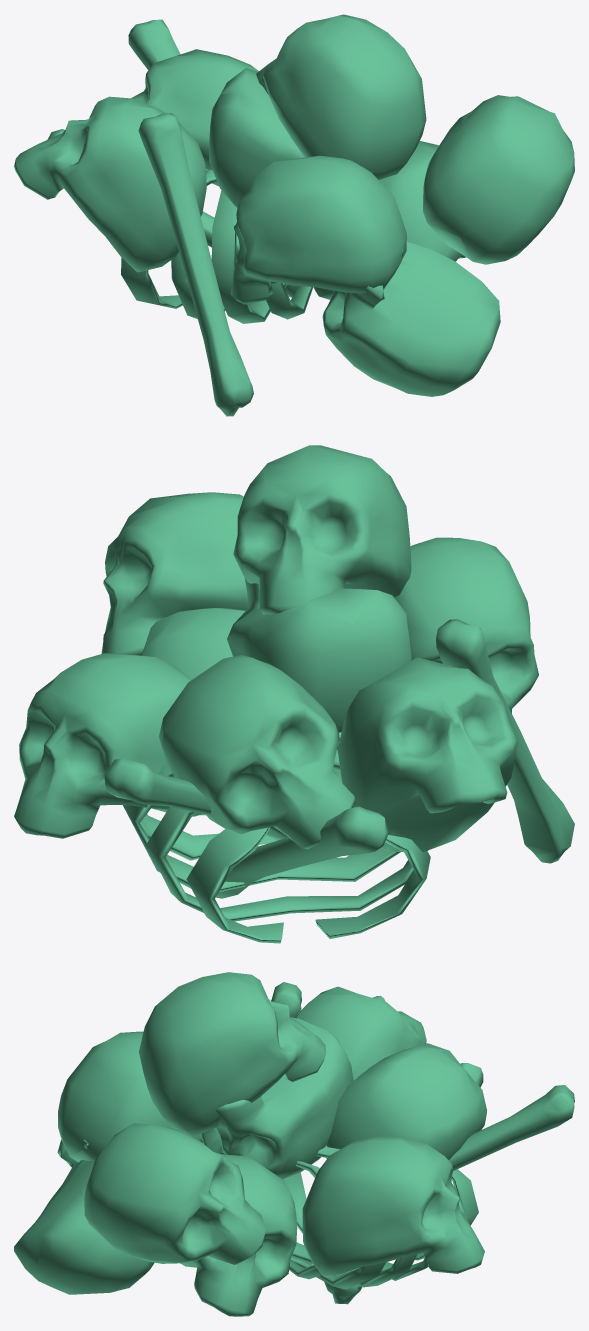
The model's file is Bones_Barrel_02_Lod0.fbx.
The picture shows the model from 3 angles, top to bottom: view 1: azimuth 30°, elevation 25°; view 2: azimuth 150°, elevation 25°; view 3: azimuth 270°, elevation 25°; orthographic projection. The views are drawn at different scales.
Visible parts, largest first — view 1: Bones_Barrel_02_Lod0; view 2: Bones_Barrel_02_Lod0; view 3: Bones_Barrel_02_Lod0.
Part boxes in pixels (<box>): Bones_Barrel_02_Lod0: <box>14,14,574,416</box>; Bones_Barrel_02_Lod0: <box>14,445,574,943</box>; Bones_Barrel_02_Lod0: <box>14,972,574,1316</box>.
Size of the model in its own units: 51.7 by 37.33 by 59.63.
